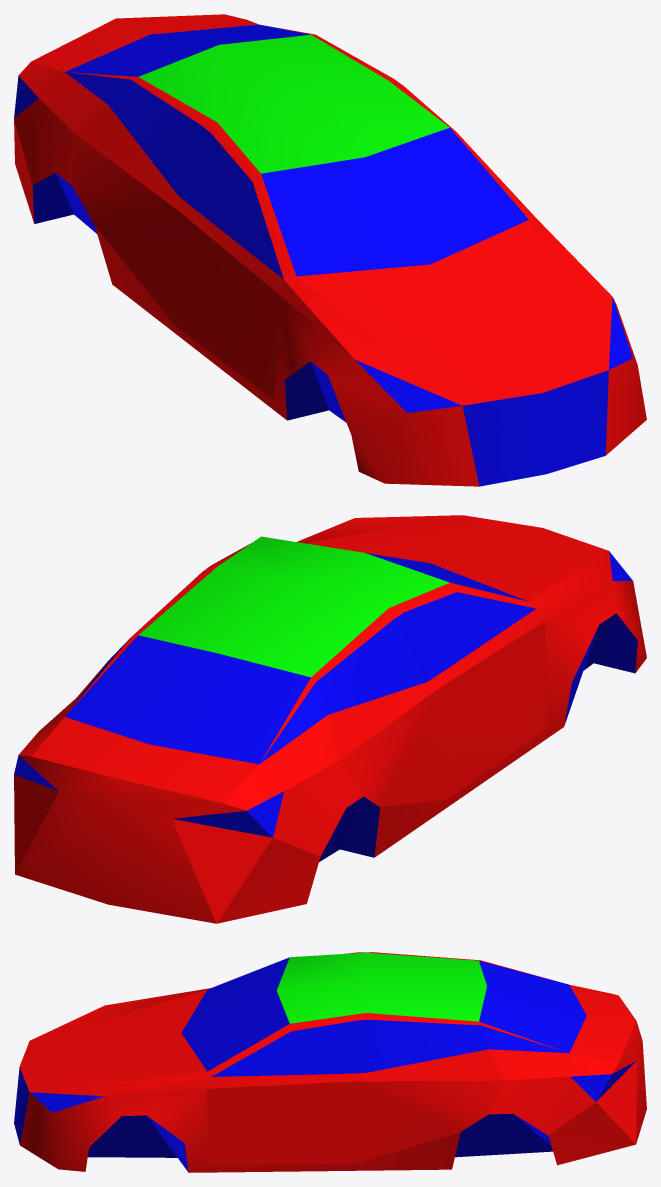
The model's file is sedan-lod2.glb.
The picture shows the model from 3 angles, top to bottom: view 1: azimuth 30°, elevation 25°; view 2: azimuth 150°, elevation 25°; view 3: azimuth 270°, elevation 25°; orthographic projection. The views are drawn at different scales.
Visible parts, largest first — view 1: body; view 2: body; view 3: body.
Boxes of the visible parts, x1,y1,x2,y2 form: body: (14,14,646,486); body: (14,515,646,923); body: (14,952,646,1172).
Size of the model in its own units: 1.86 by 1.22 by 4.84.
1 material, 1 textured.
